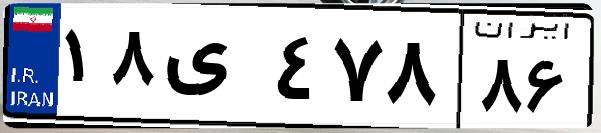1: (57, 26, 110, 100)
4: (270, 28, 330, 110)
6: (525, 38, 570, 115)
7: (330, 28, 385, 110)
8: (385, 28, 445, 110), (475, 38, 525, 113), (110, 28, 158, 98)
ی: (158, 20, 270, 120)
